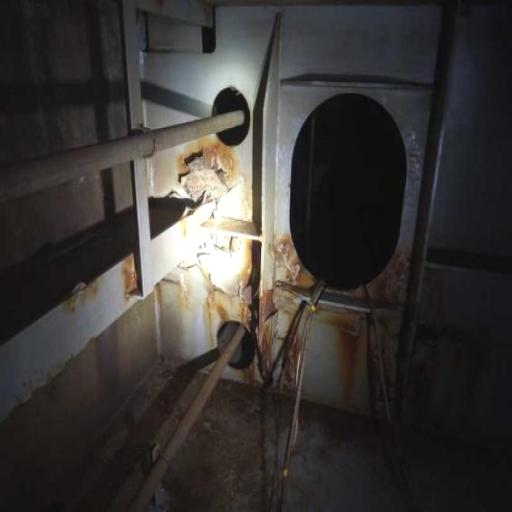Detect-rust-on-metal-surfaces: (0, 131, 511, 511), (57, 274, 102, 324), (118, 249, 148, 307)
